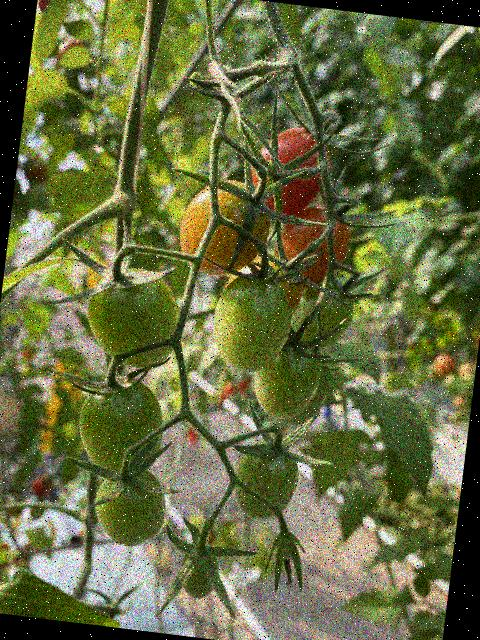l_fully_ripened: (243, 121, 336, 225)
l_green: (81, 262, 187, 373), (72, 373, 169, 483), (208, 269, 298, 378), (91, 464, 171, 550), (229, 438, 302, 525), (251, 335, 323, 423), (286, 279, 357, 356), (276, 349, 333, 429), (177, 547, 222, 600)
l_half_ripened: (174, 173, 276, 282), (271, 201, 354, 293), (221, 251, 306, 318)
